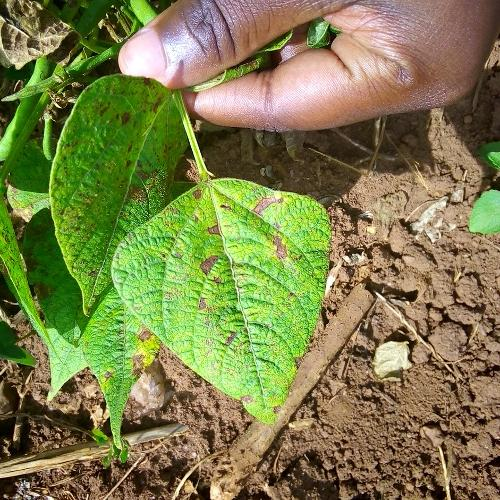hawar: (150, 182, 316, 399)
